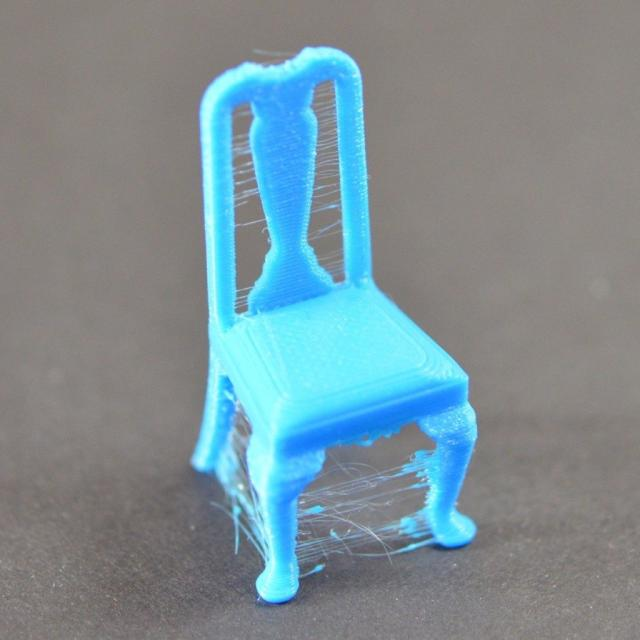stringing: (292, 463, 438, 588), (305, 94, 350, 255), (228, 113, 265, 270)
